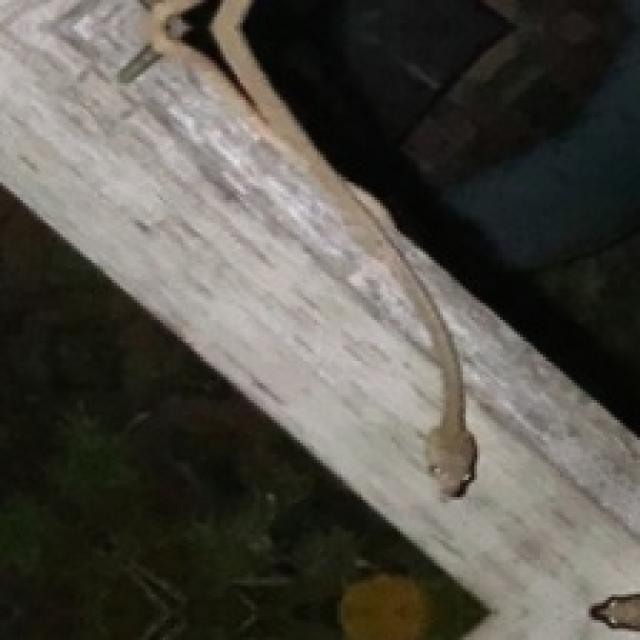philippine cat snake: (211, 0, 474, 494)
